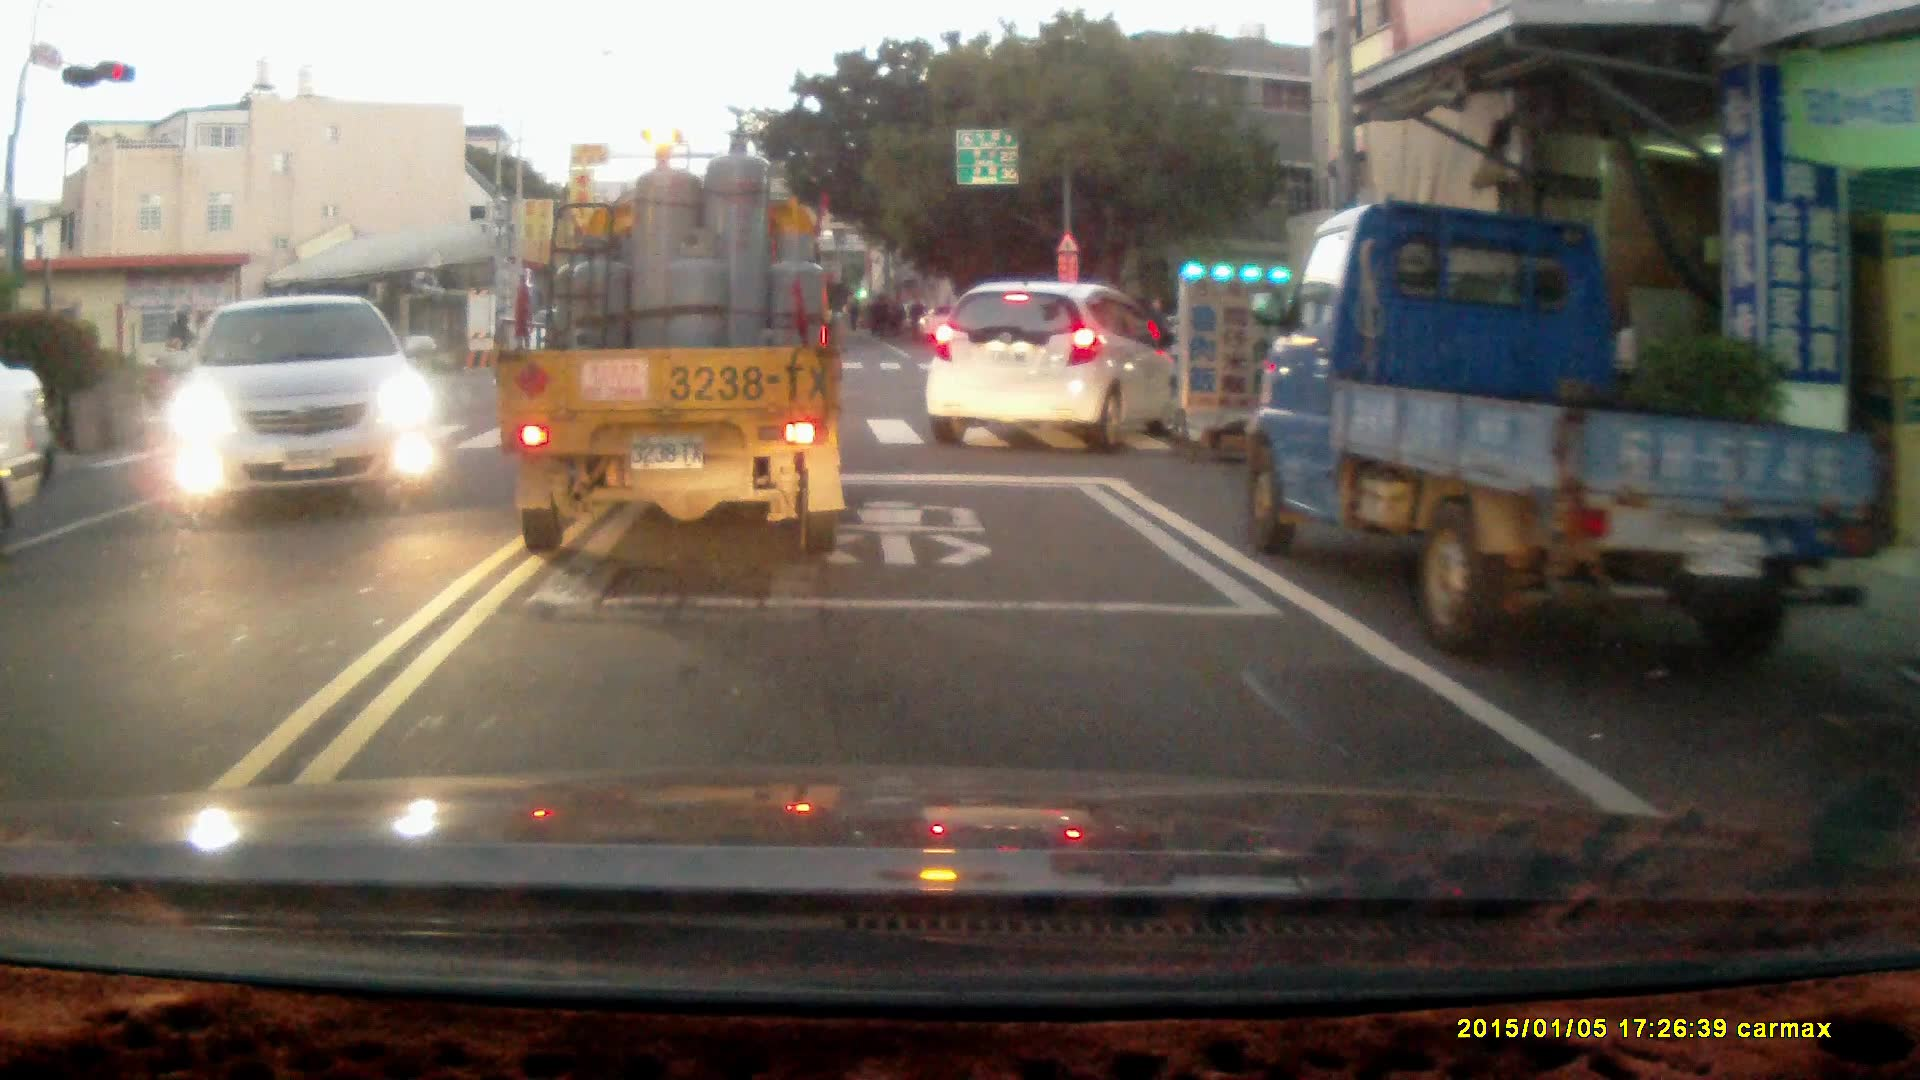vehicle: (1249, 193, 1873, 655), (506, 133, 852, 558), (171, 294, 443, 517), (920, 281, 1183, 456), (1, 349, 65, 539)
